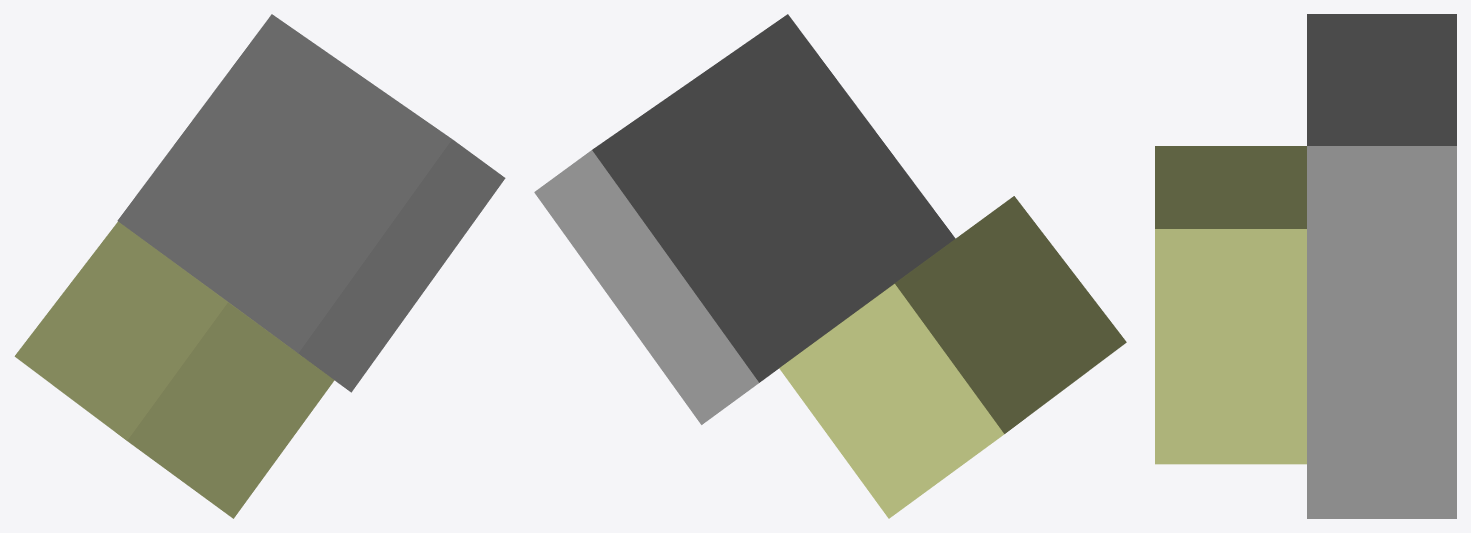
The picture shows the model from 3 angles, left to right: view 1: azimuth 30°, elevation 25°; view 2: azimuth 150°, elevation 25°; view 3: azimuth 270°, elevation 25°; orthographic projection. The views are drawn at different scales.
Visible parts, largest first — view 1: 0_1_2_0_1_3_0_2_2_3; view 2: 0_1_2_0_1_3_0_2_2_3; view 3: 0_1_2_0_1_3_0_2_2_3.
Part boxes in pixels (x1,y1,x2,y2): 0_1_2_0_1_3_0_2_2_3: [14, 14, 505, 518]; 0_1_2_0_1_3_0_2_2_3: [534, 14, 1126, 518]; 0_1_2_0_1_3_0_2_2_3: [1155, 14, 1456, 518].
Bounding box in the file's own units: 14.27 × 12.15 × 6.04.
